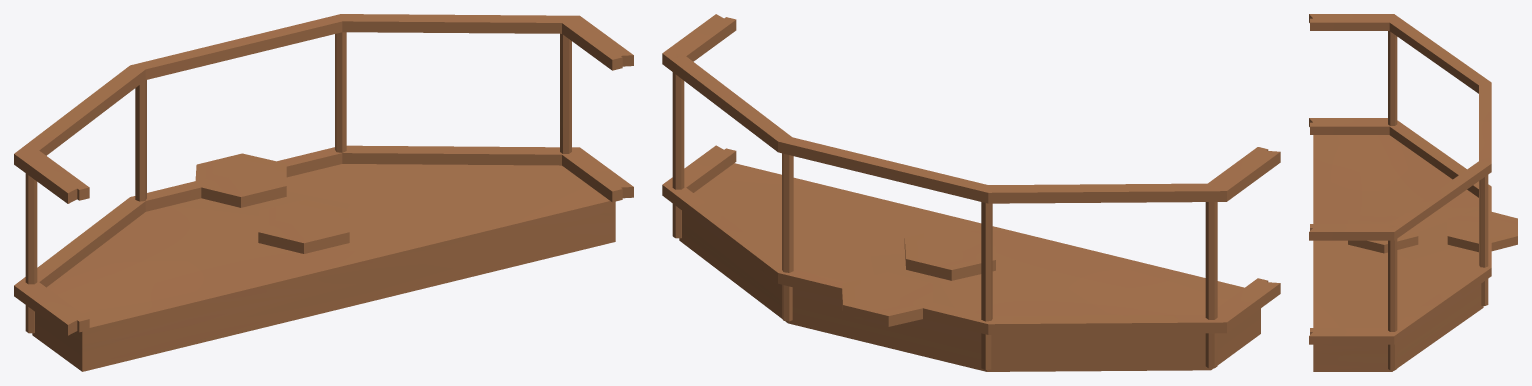
Rendered from lvl1_P_switch1_platform.glb.
3 renders of one model, left to right at view 1: azimuth 30°, elevation 25°; view 2: azimuth 150°, elevation 25°; view 3: azimuth 270°, elevation 25°, orthographic. The views are drawn at different scales.
Visible parts, largest first — view 1: lvl1_platform_p_switch1; view 2: lvl1_platform_p_switch1; view 3: lvl1_platform_p_switch1.
Part boxes in pixels (box(x1,y1,x2,y2)): lvl1_platform_p_switch1: box(14, 14, 633, 371); lvl1_platform_p_switch1: box(662, 14, 1280, 371); lvl1_platform_p_switch1: box(1309, 14, 1517, 371).
Bounding box in the file's own units: 16.42 × 5.12 × 6.64.
Materials: 1 (1 with a texture image).
